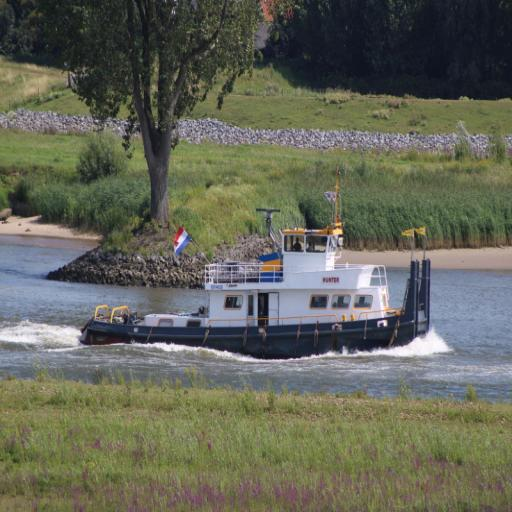tugboat: (78, 206, 434, 365)
